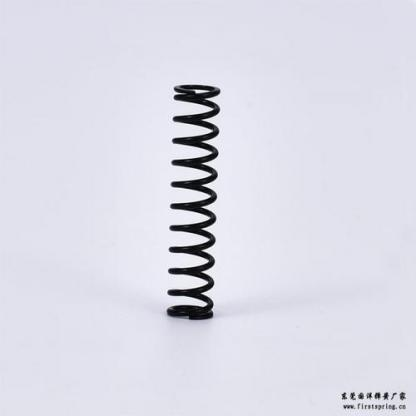FOD: (163, 83, 225, 326)
